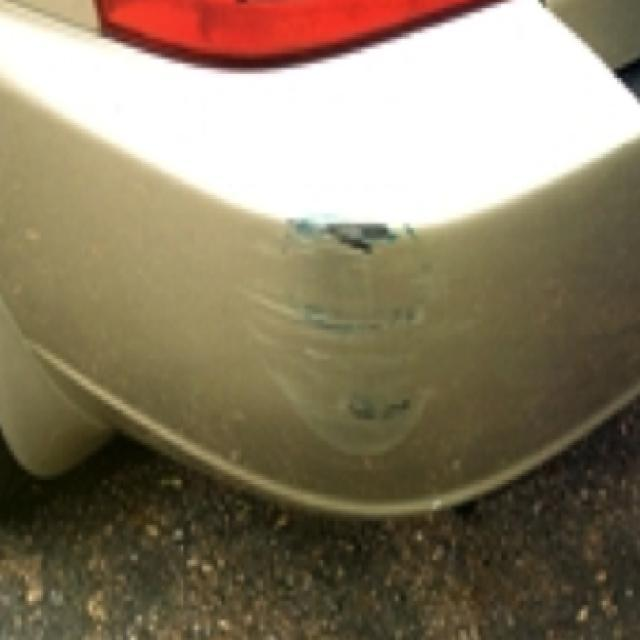scratch: (223, 178, 442, 480)
